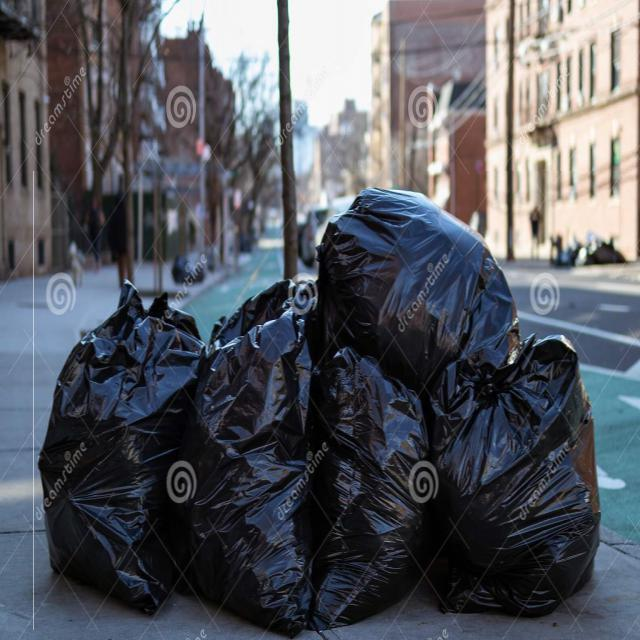Trashbag: (29, 298, 193, 615), (424, 332, 604, 619), (303, 183, 531, 359), (175, 338, 307, 630), (314, 346, 432, 626)
